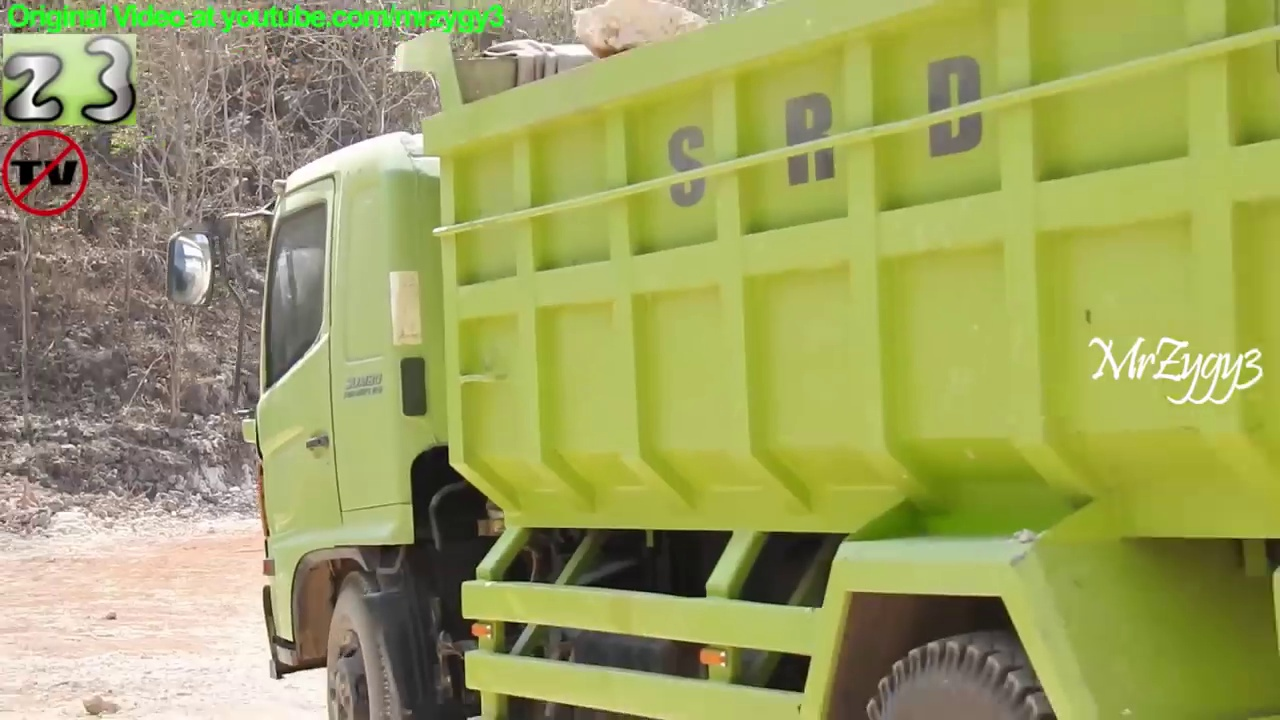truck: (153, 1, 1280, 720)
